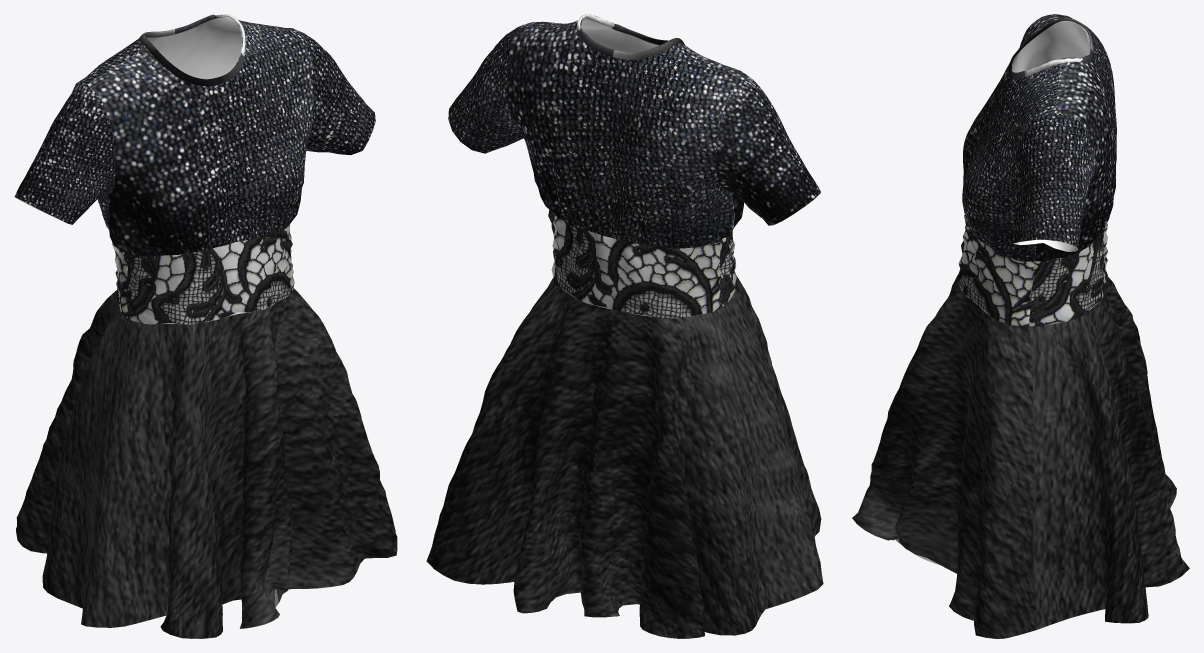
The model's file is testfile.gltf.
3 renders of one model, left to right at view 1: azimuth 30°, elevation 25°; view 2: azimuth 150°, elevation 25°; view 3: azimuth 270°, elevation 25°, orthographic. The views are drawn at different scales.
Visible parts, largest first — view 1: MatShape_23413_Node, MatShape_23437_Node, MatShape_23397_Node, MatShape_23429_Node, MatShape_23421_Node, Pattern2D_593700_Node, MatShape_23453_Node, MatShape_23445_Node, MatShape_23405_Node; view 2: MatShape_23413_Node, MatShape_23445_Node, MatShape_23405_Node, MatShape_23429_Node, MatShape_23421_Node, Pattern2D_591411_Node, MatShape_23453_Node, MatShape_23397_Node, MatShape_23437_Node; view 3: MatShape_23413_Node, MatShape_23437_Node, MatShape_23421_Node, MatShape_23445_Node, MatShape_23405_Node, MatShape_23397_Node, sleave_1_Node, MatShape_23453_Node.
Boxes of the visible parts, left/top/right/bottom form: MatShape_23413_Node: left=16, top=288, right=397, bottom=638; MatShape_23437_Node: left=88, top=23, right=313, bottom=256; MatShape_23397_Node: left=123, top=224, right=294, bottom=324; MatShape_23429_Node: left=14, top=82, right=115, bottom=224; MatShape_23421_Node: left=293, top=28, right=375, bottom=155; Pattern2D_593700_Node: left=82, top=17, right=286, bottom=83; MatShape_23453_Node: left=139, top=14, right=244, bottom=86; MatShape_23445_Node: left=77, top=20, right=298, bottom=229; MatShape_23405_Node: left=112, top=242, right=128, bottom=316; MatShape_23413_Node: left=426, top=275, right=823, bottom=638; MatShape_23445_Node: left=506, top=20, right=742, bottom=248; MatShape_23405_Node: left=548, top=210, right=723, bottom=318; MatShape_23429_Node: left=715, top=77, right=820, bottom=225; MatShape_23421_Node: left=448, top=25, right=523, bottom=153; Pattern2D_591411_Node: left=527, top=18, right=734, bottom=225; MatShape_23453_Node: left=576, top=16, right=684, bottom=59; MatShape_23397_Node: left=719, top=230, right=736, bottom=306; MatShape_23437_Node: left=524, top=21, right=751, bottom=229; MatShape_23413_Node: left=852, top=275, right=1189, bottom=638; MatShape_23437_Node: left=962, top=14, right=1059, bottom=261; MatShape_23421_Node: left=1012, top=113, right=1095, bottom=248; MatShape_23445_Node: left=1034, top=14, right=1116, bottom=261; MatShape_23405_Node: left=1029, top=223, right=1107, bottom=326; MatShape_23397_Node: left=958, top=219, right=1033, bottom=326; sleave_1_Node: left=1017, top=21, right=1090, bottom=72; MatShape_23453_Node: left=1008, top=18, right=1093, bottom=79.
Size of the model in its own units: 0.5816 by 0.8548 by 0.4936.
Materials: 10 (8 with a texture image).
